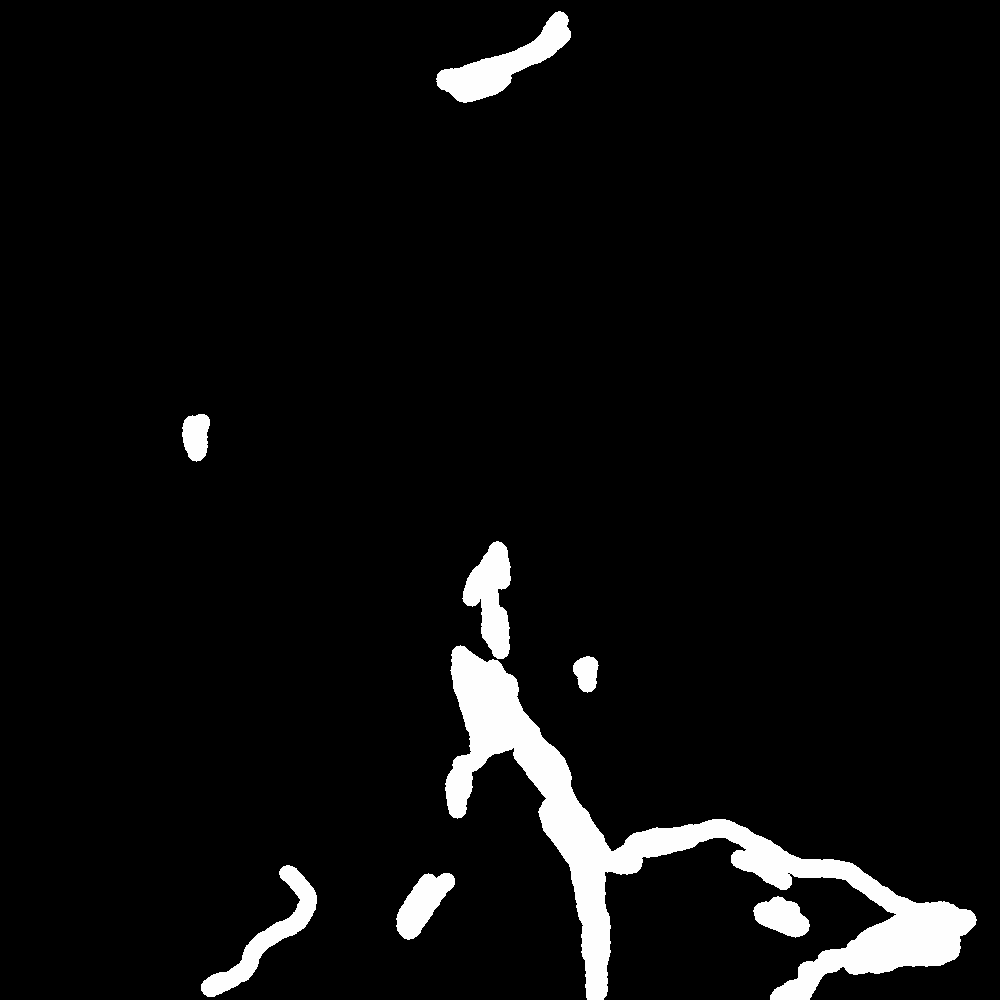illegal: (434, 658, 691, 1000), (618, 811, 896, 903), (327, 22, 572, 95), (819, 897, 986, 996), (567, 856, 622, 1000), (403, 856, 438, 929)
